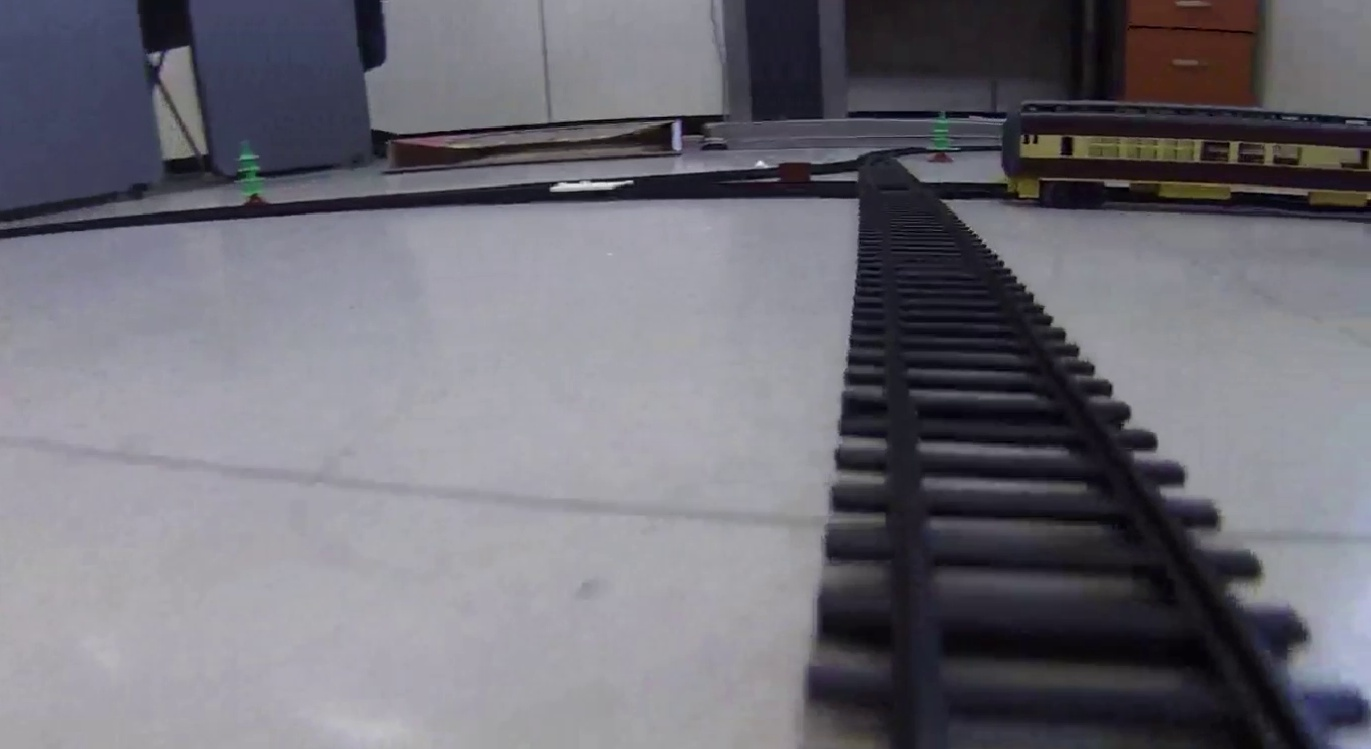tree: (229, 139, 276, 205)
